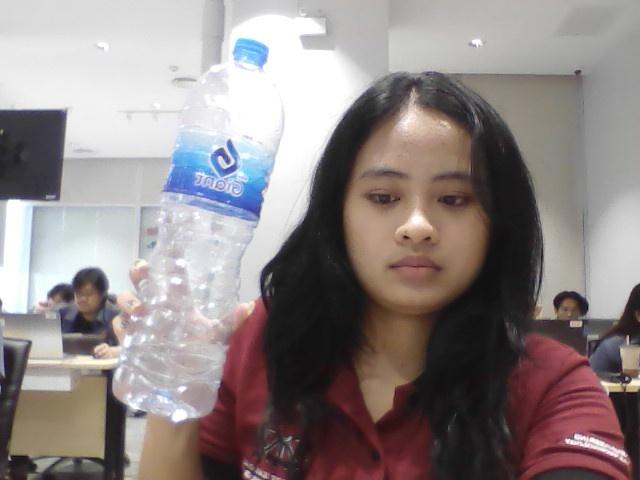bottle: (121, 35, 291, 419)
